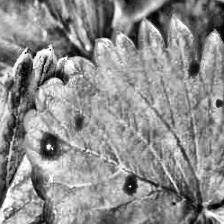Leaf Spot: (22, 13, 224, 224), (0, 44, 78, 224), (0, 0, 84, 134), (16, 0, 118, 65)
